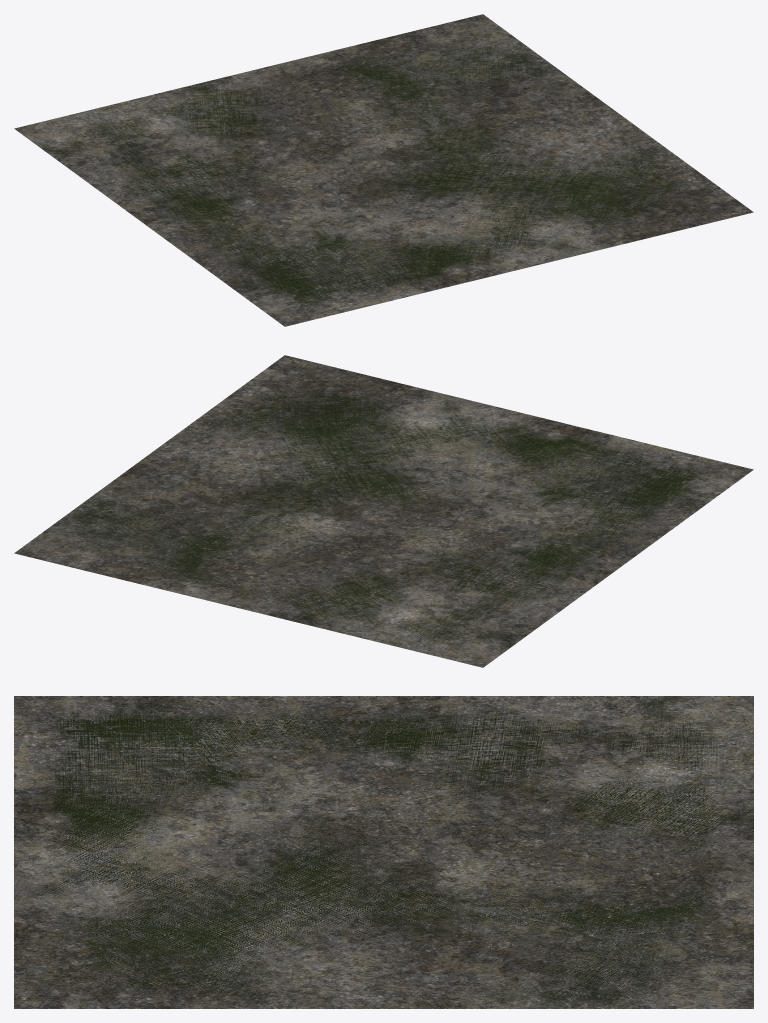
File: underground_floor_straight.fbx
The picture shows the model from 3 angles, top to bottom: view 1: azimuth 30°, elevation 25°; view 2: azimuth 150°, elevation 25°; view 3: azimuth 270°, elevation 25°; orthographic projection. The views are drawn at different scales.
Parts seen in each view (by area): view 1: underground_floor_straight; view 2: underground_floor_straight; view 3: underground_floor_straight.
Boxes of the visible parts, bbox=[...] form: underground_floor_straight: bbox=[14, 14, 753, 326]; underground_floor_straight: bbox=[14, 355, 753, 667]; underground_floor_straight: bbox=[14, 696, 753, 1008].
Bounding box in the file's own units: 330 × 0.000145 × 330.
1 material, 1 textured.
